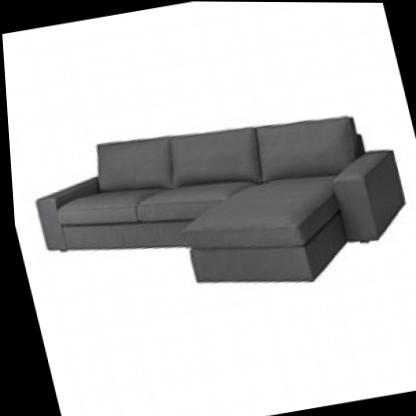Sofa: (6, 78, 416, 342)
